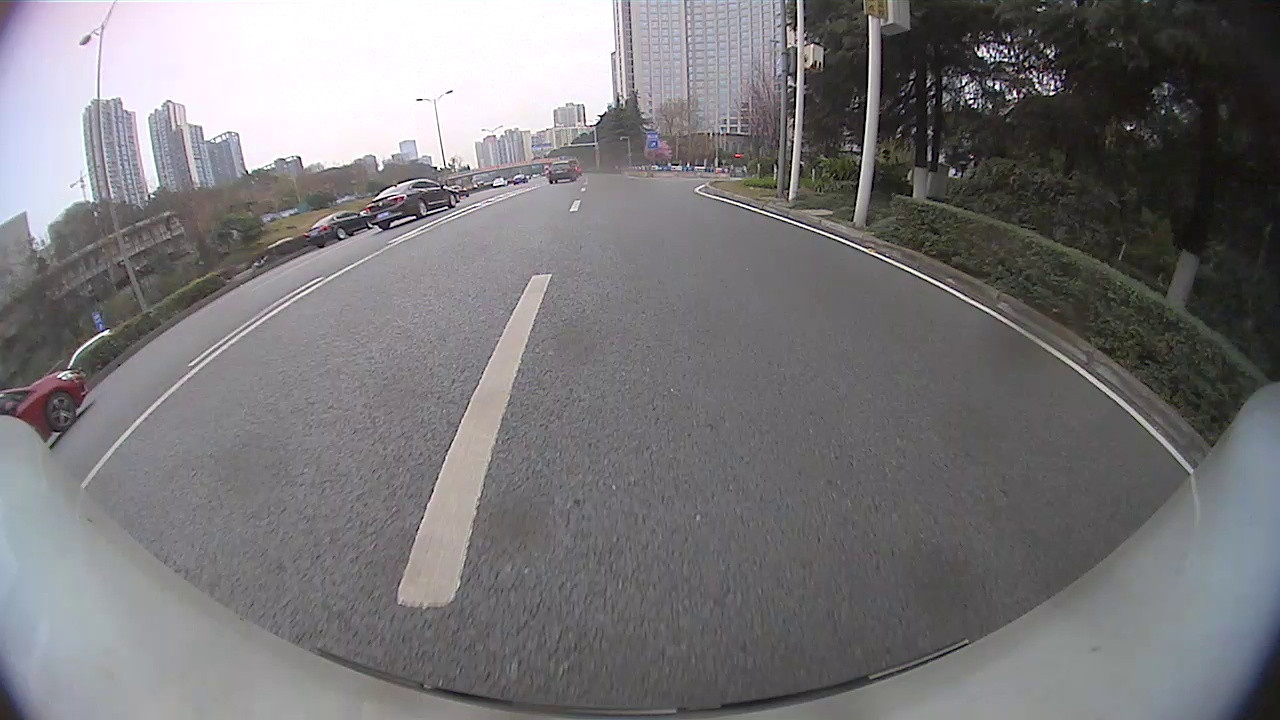car: (1, 370, 90, 444), (364, 176, 461, 231), (303, 209, 375, 247), (546, 157, 578, 184)
front: (45, 392, 76, 433), (448, 193, 459, 209)
rear: (418, 200, 427, 219), (337, 228, 347, 241)
